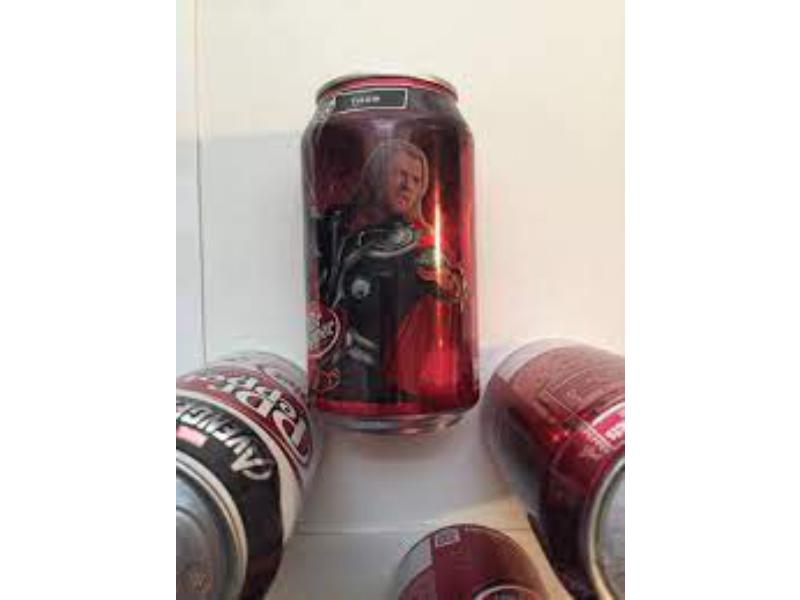can: (306, 71, 491, 446)
